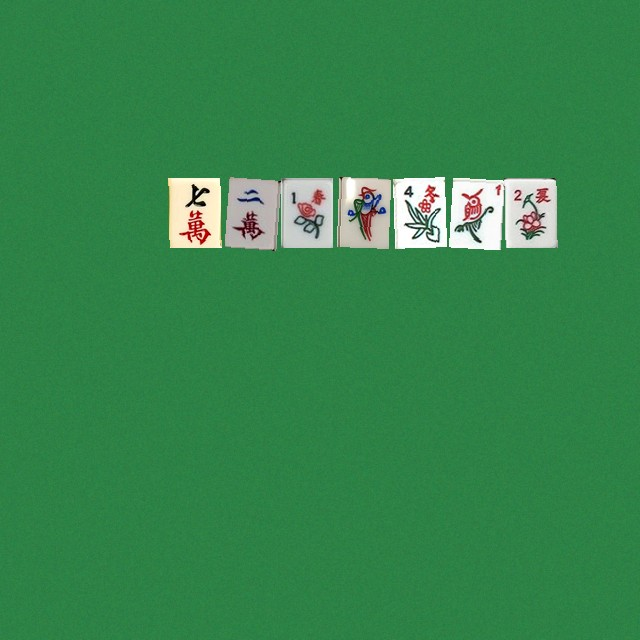tile: (168, 177, 220, 247), (224, 177, 276, 247), (280, 177, 332, 247), (336, 177, 388, 247), (392, 177, 444, 247), (448, 177, 500, 247), (504, 177, 556, 247)
